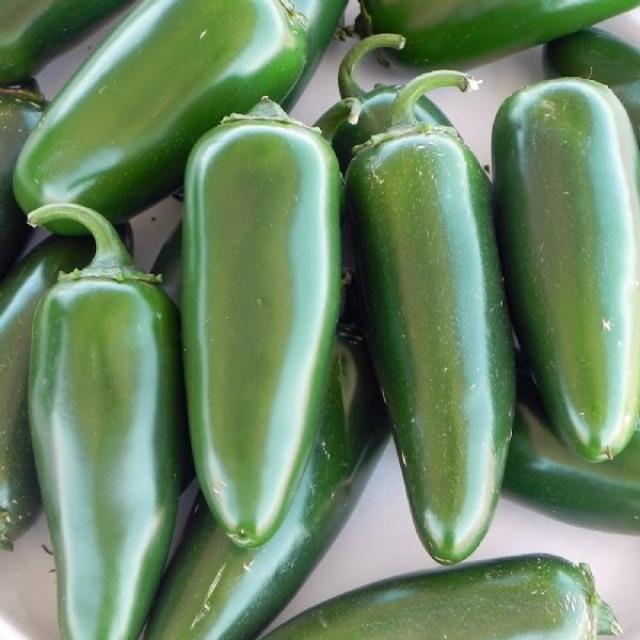aji: (189, 127, 372, 558), (349, 125, 527, 562), (499, 80, 640, 496), (30, 238, 177, 616)
